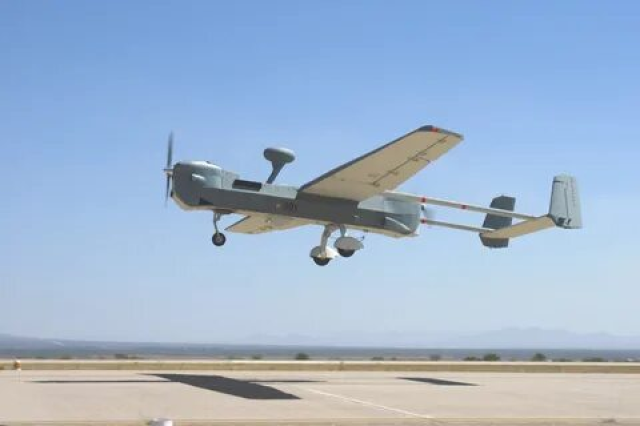military drone: (161, 123, 582, 266)
